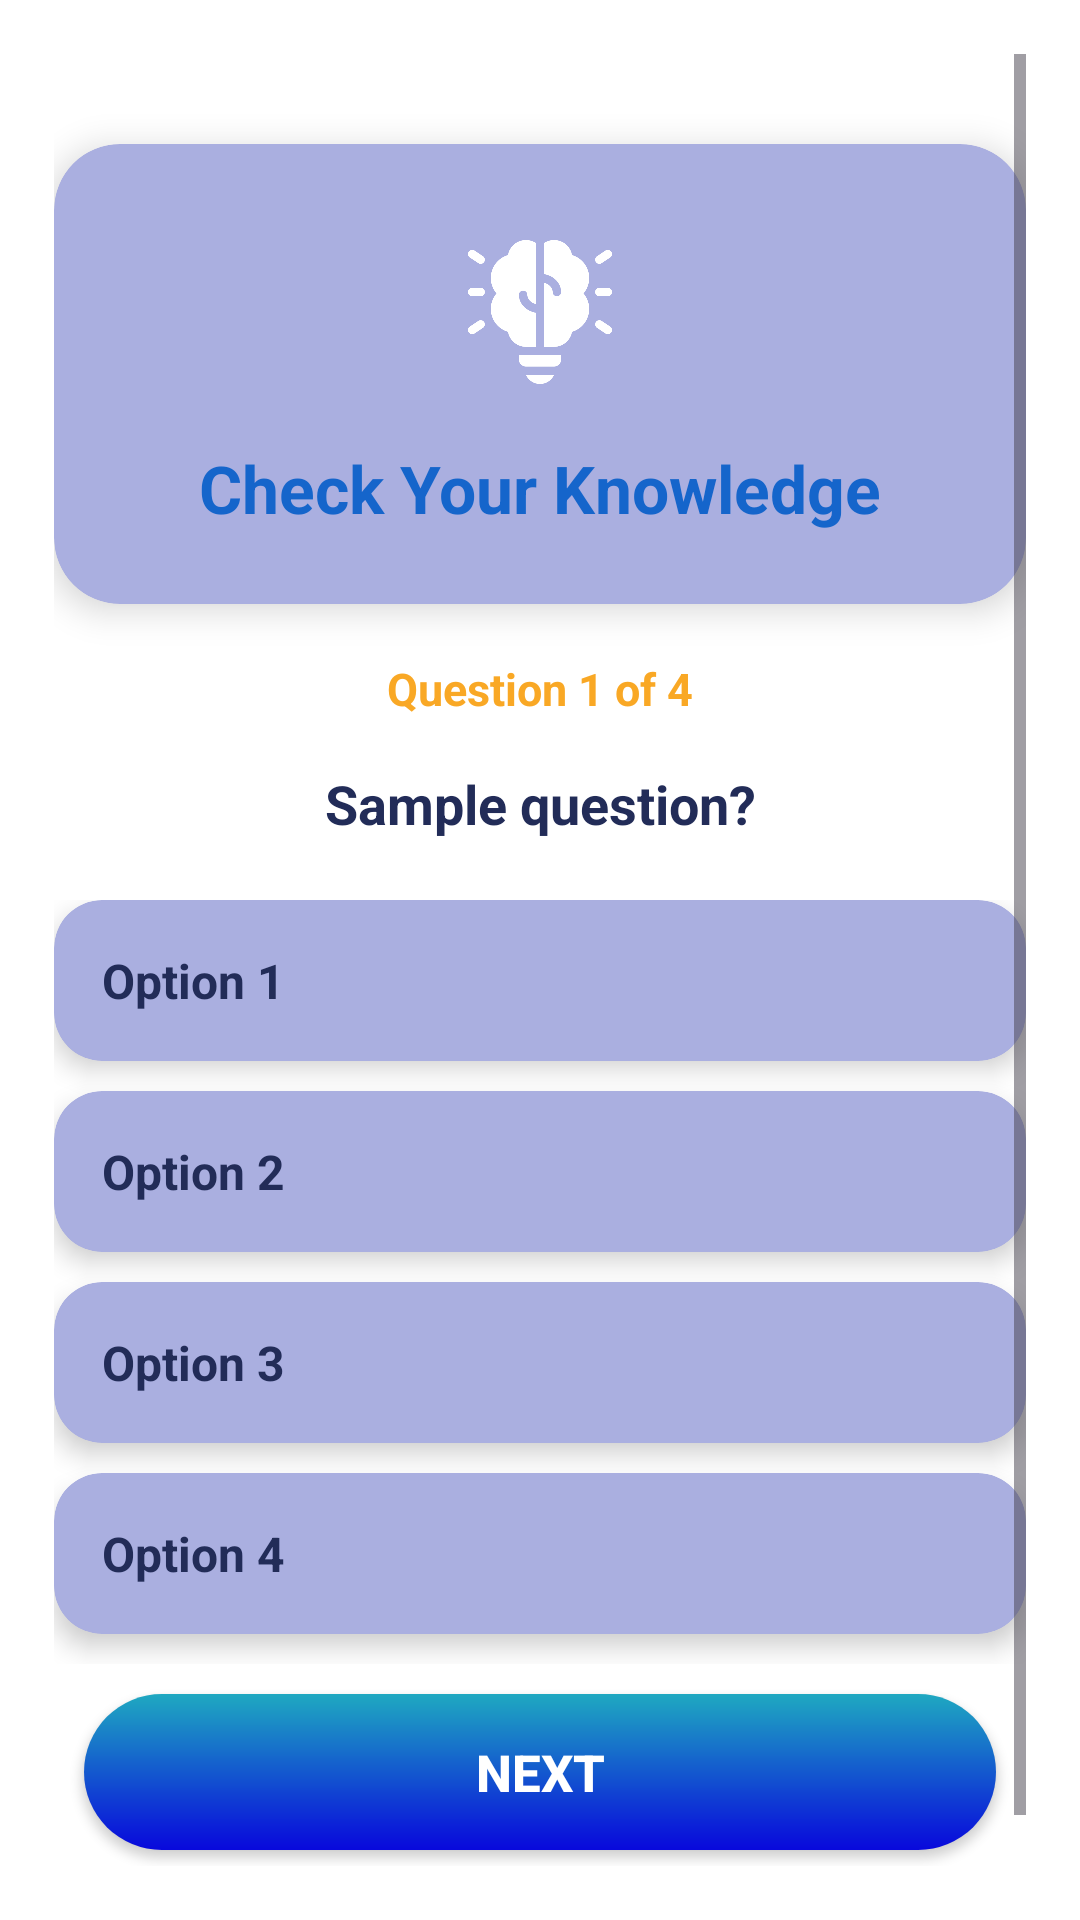

Screen size 1080 × 1920. Icon name, then its box in pixels as (x1, y1, x2, y2):
Quiz: (468, 240, 612, 384)
